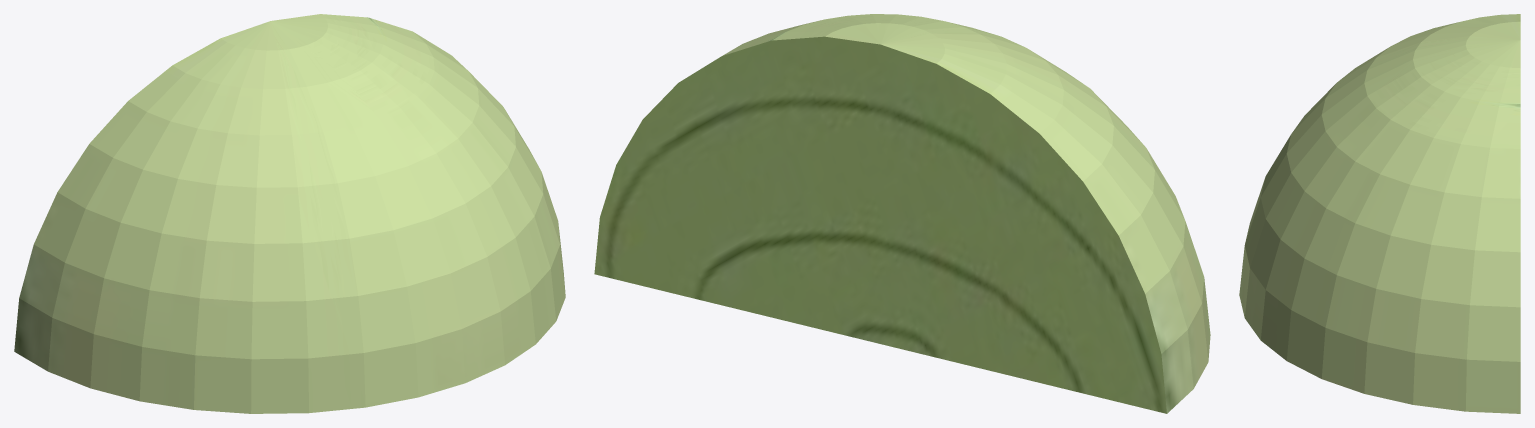
The model's file is kyabetu1.obj.
3 renders of one model, left to right at view 1: azimuth 30°, elevation 25°; view 2: azimuth 150°, elevation 25°; view 3: azimuth 270°, elevation 25°, orthographic. The views are drawn at different scales.
Parts seen in each view (by area): view 1: 球.001; view 2: 球.001; view 3: 球.001.
Boxes of the visible parts, x1,y1,x2,y2 form: 球.001: (14, 14, 565, 413); 球.001: (594, 14, 1210, 413); 球.001: (1239, 14, 1520, 413).
Size of the model in its own units: 4.56 by 2.28 by 2.28.
Materials: 2 (2 with a texture image).
